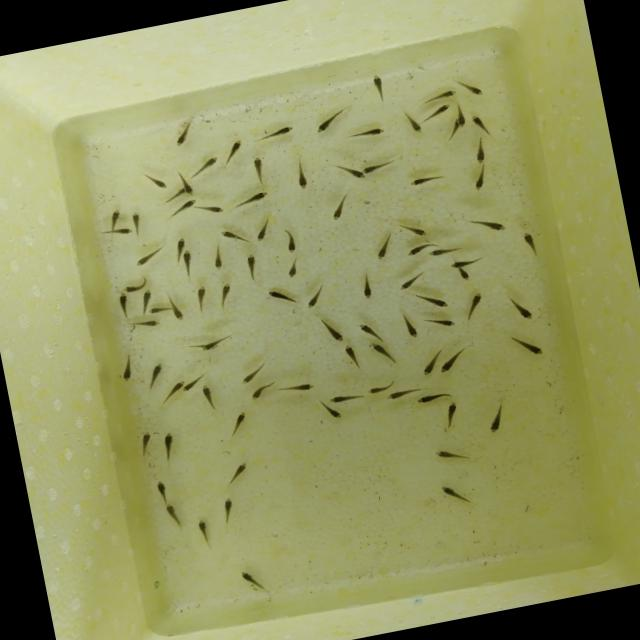fingerling: (435, 476, 474, 510), (310, 104, 354, 134), (508, 330, 548, 362), (166, 115, 202, 150), (468, 209, 508, 240), (250, 122, 300, 146), (228, 188, 274, 214), (456, 288, 489, 324), (431, 442, 475, 469), (481, 401, 514, 436), (330, 156, 368, 186), (289, 152, 316, 194), (236, 564, 268, 599), (366, 338, 400, 370), (338, 340, 368, 376), (414, 288, 454, 314), (262, 282, 298, 310), (114, 348, 142, 384), (188, 153, 225, 180), (317, 314, 348, 346), (245, 152, 272, 188), (188, 281, 215, 317), (507, 291, 536, 324), (439, 348, 472, 377), (142, 358, 171, 391), (406, 168, 449, 190), (367, 70, 393, 106), (222, 459, 254, 488), (132, 244, 170, 268), (419, 85, 462, 106), (324, 385, 365, 407), (516, 228, 544, 260), (235, 362, 269, 388), (412, 387, 454, 408), (413, 350, 442, 380), (355, 314, 384, 344), (400, 107, 428, 138), (227, 408, 253, 441), (158, 428, 181, 465), (438, 398, 463, 432), (124, 314, 166, 334), (370, 232, 398, 262), (219, 224, 250, 251), (344, 124, 388, 143), (212, 280, 238, 312), (354, 270, 380, 302), (398, 216, 430, 242), (244, 381, 280, 404), (161, 499, 186, 532), (300, 282, 329, 310), (363, 154, 401, 175), (422, 312, 458, 334), (399, 310, 423, 343), (252, 216, 280, 244), (194, 516, 217, 550), (217, 494, 240, 528), (199, 332, 238, 352), (468, 165, 496, 192), (326, 194, 353, 222), (382, 384, 424, 402), (242, 250, 264, 284), (136, 428, 158, 462), (468, 110, 494, 138), (462, 78, 492, 102), (470, 136, 494, 166), (394, 270, 426, 292), (277, 380, 316, 398), (150, 476, 175, 504), (207, 242, 230, 272), (425, 242, 463, 260), (224, 134, 250, 160), (142, 168, 168, 194), (195, 200, 228, 220), (176, 165, 196, 198), (119, 274, 152, 294), (198, 382, 220, 412), (362, 378, 396, 397), (178, 249, 198, 278), (280, 227, 300, 256), (99, 224, 135, 240), (448, 253, 484, 269), (282, 255, 304, 280), (130, 209, 148, 238), (116, 292, 134, 321), (400, 240, 429, 258), (168, 298, 188, 324), (428, 102, 453, 122), (104, 206, 126, 228), (321, 403, 344, 422), (454, 106, 471, 130), (146, 302, 171, 318), (176, 195, 200, 211), (139, 288, 157, 307), (455, 266, 474, 284), (172, 234, 188, 252), (182, 381, 200, 395), (171, 378, 187, 390)
